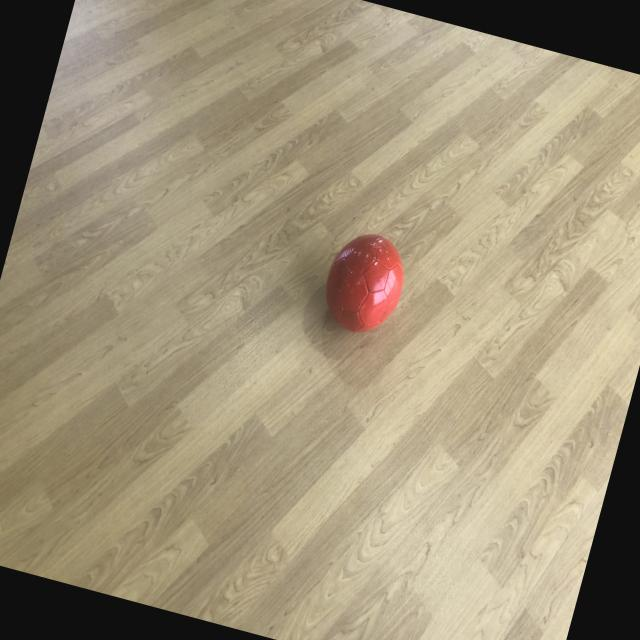red_ball: (316, 225, 415, 342)
